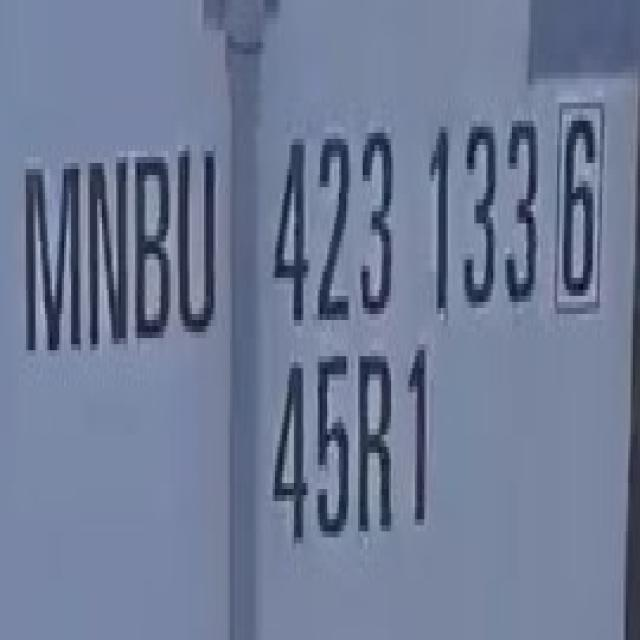dv: (548, 78, 610, 333)
owner: (12, 125, 227, 372)
serial: (266, 104, 546, 341)
size: (269, 342, 446, 568)
